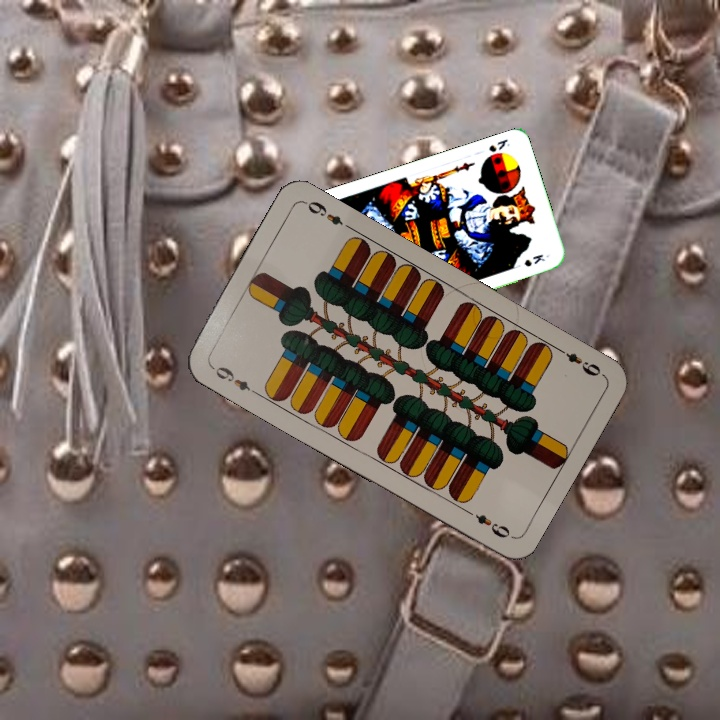E9: (206, 360, 260, 397), (552, 343, 604, 379)
SK: (485, 135, 512, 155)
